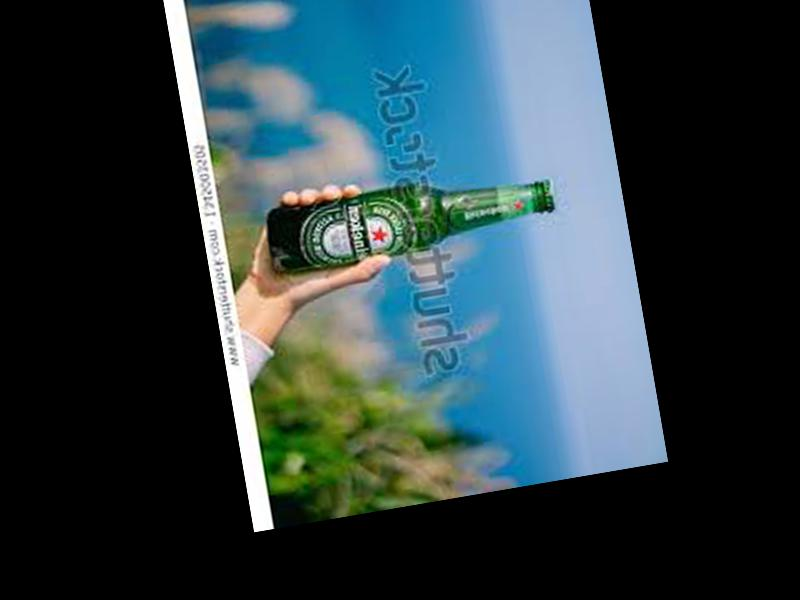Beer: (266, 161, 560, 279)
